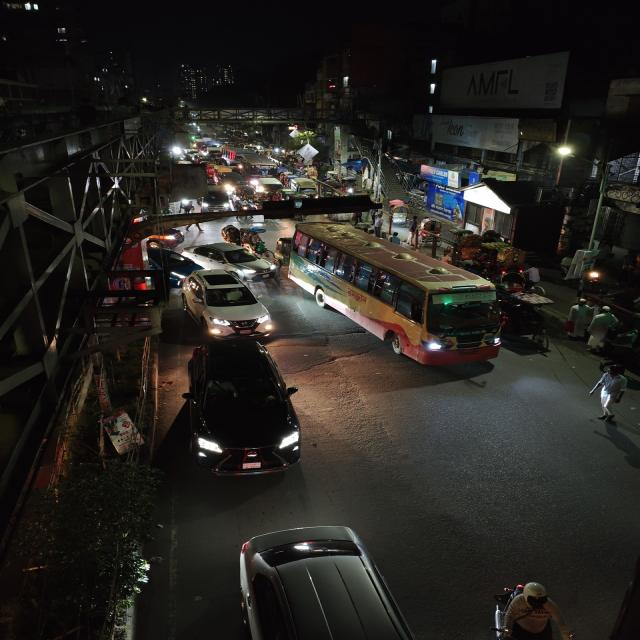bus: (290, 221, 507, 365), (240, 156, 280, 187)
car: (230, 520, 447, 640), (182, 337, 308, 483), (181, 270, 273, 336), (184, 241, 278, 280), (198, 190, 234, 213), (217, 172, 247, 190)
human_hauler: (288, 178, 319, 195)
pedestrian: (482, 577, 580, 640), (586, 362, 634, 432), (583, 306, 620, 352), (563, 300, 594, 340)
rickshaw: (514, 303, 553, 355), (219, 222, 274, 258), (501, 271, 554, 305)
